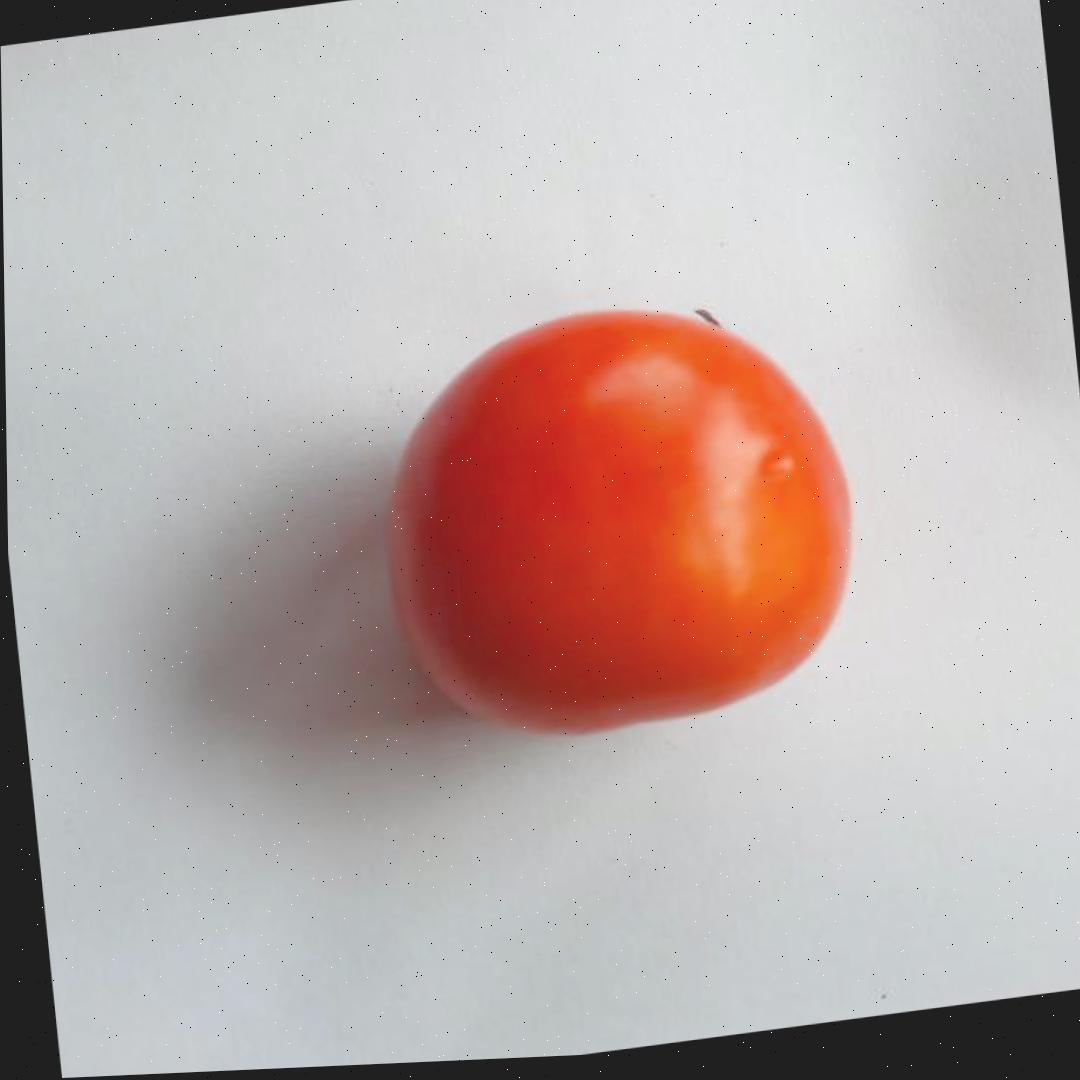setengah_matang: (366, 275, 873, 760)
